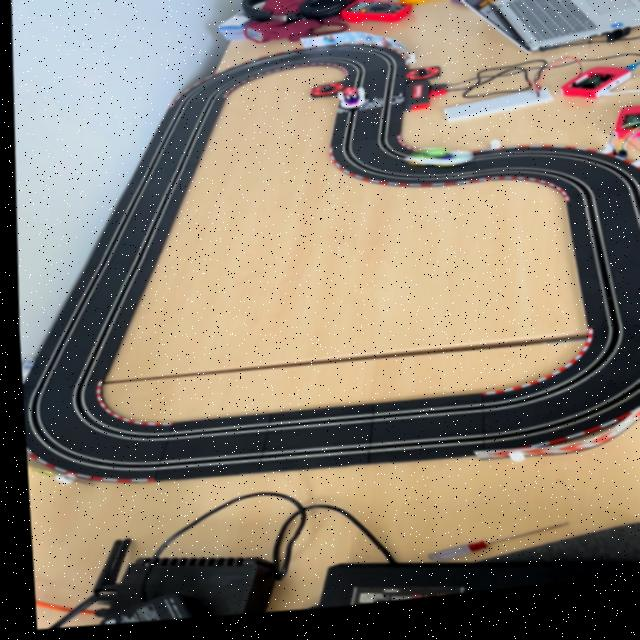mario: (331, 91, 369, 120)
yoshi: (396, 150, 475, 183)
